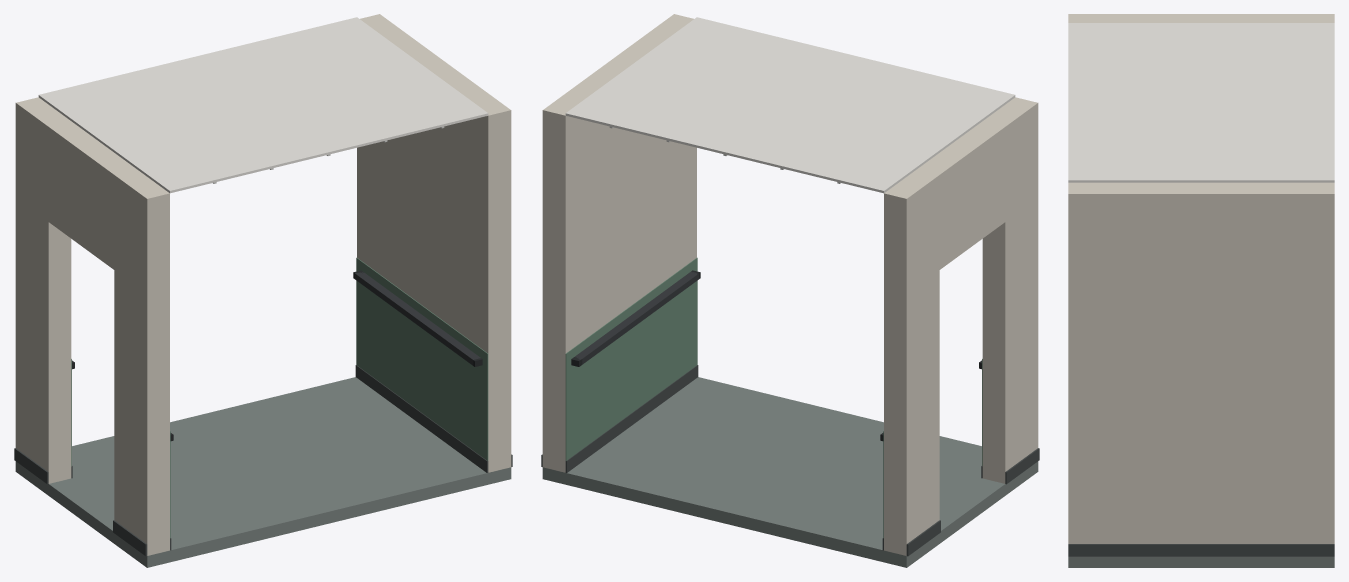
File: MOD_Corridor_Straight_2m_DoorWest1000.glb
3 renders of one model, left to right at view 1: azimuth 30°, elevation 25°; view 2: azimuth 150°, elevation 25°; view 3: azimuth 270°, elevation 25°, orthographic.
Visible parts, largest first — view 1: MOD_Corridor_Straight_2m_DoorWest1000_Mesh; view 2: MOD_Corridor_Straight_2m_DoorWest1000_Mesh; view 3: MOD_Corridor_Straight_2m_DoorWest1000_Mesh.
Boxes of the visible parts, <box> form: MOD_Corridor_Straight_2m_DoorWest1000_Mesh: <box>14,14,512,567</box>; MOD_Corridor_Straight_2m_DoorWest1000_Mesh: <box>541,14,1039,567</box>; MOD_Corridor_Straight_2m_DoorWest1000_Mesh: <box>1068,14,1334,567</box>.
Size of what is drawn, in the model's own units: 3.22 by 3.12 by 2.
